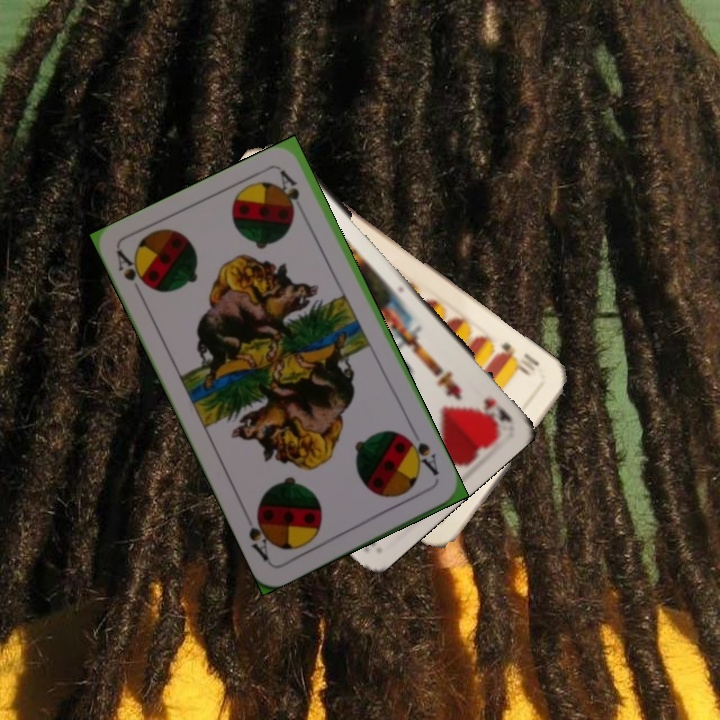E10: (493, 338, 542, 379)
HK: (479, 394, 515, 429)
SA: (113, 247, 152, 302), (401, 432, 442, 479)
